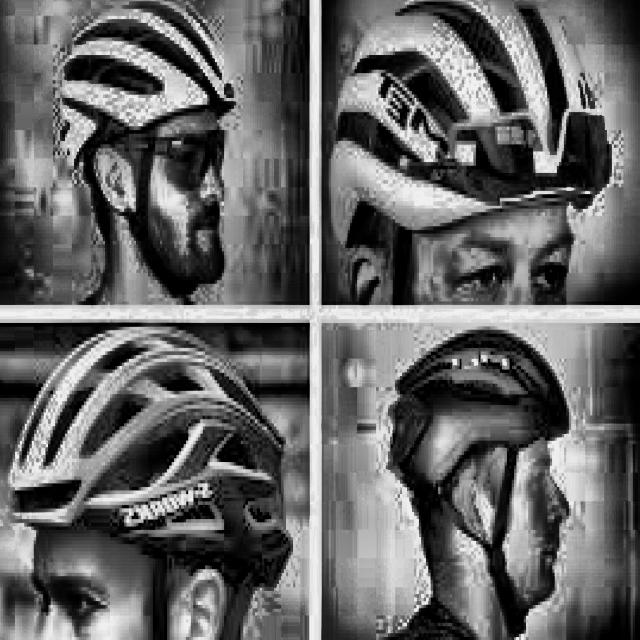Helmet: (325, 0, 610, 314), (10, 323, 276, 640), (51, 0, 259, 304), (384, 327, 571, 640)
